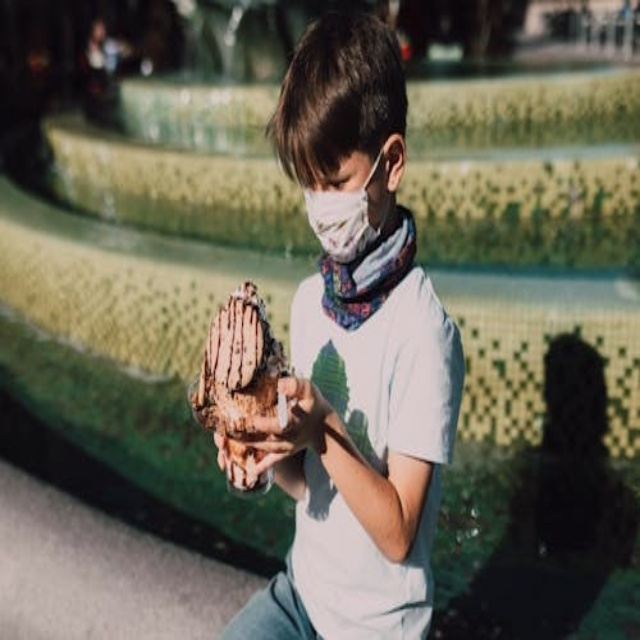Mascara: (304, 146, 390, 259)
Sin_gafas: (321, 150, 366, 192)
Sin_guantes: (215, 380, 307, 496)
